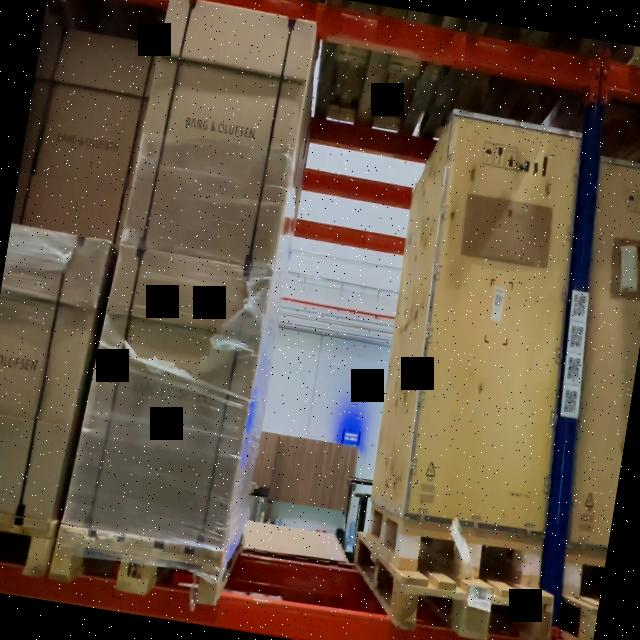box: (404, 109, 582, 534), (62, 242, 273, 548), (121, 0, 317, 271)
